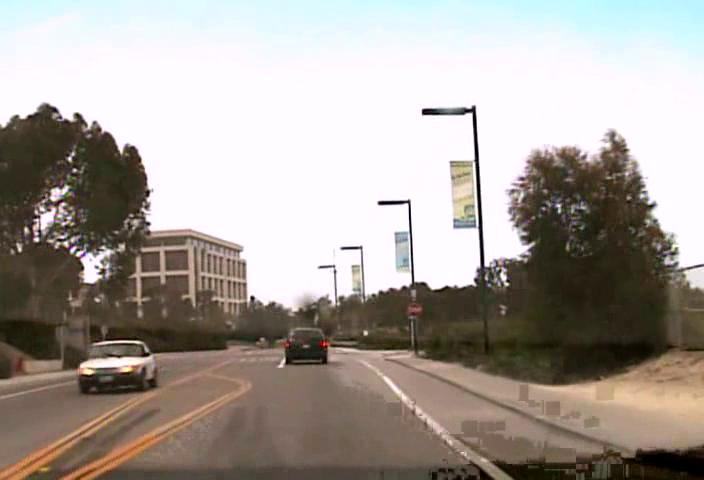stop: (406, 301, 422, 317)
